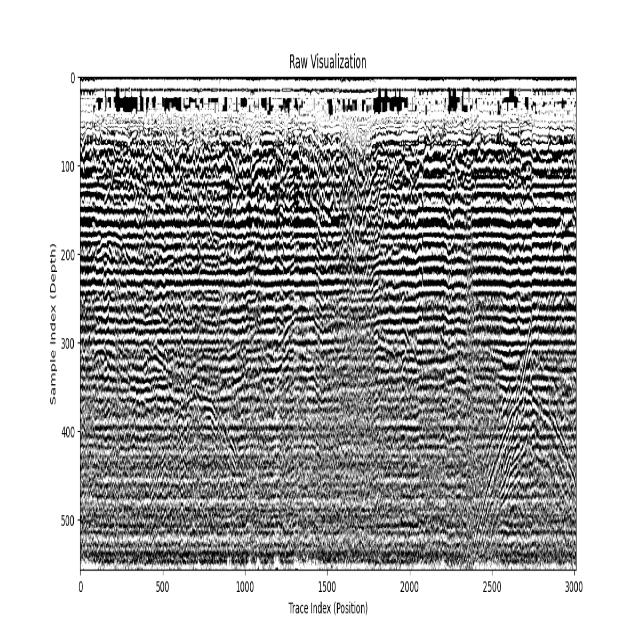anomaly: (471, 333, 576, 566), (508, 217, 576, 544), (154, 391, 247, 496), (80, 322, 176, 404), (278, 300, 331, 364)
